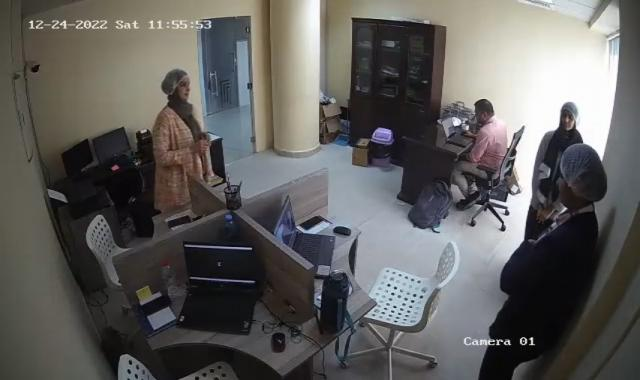hairnet: (553, 142, 610, 210), (158, 69, 193, 106), (558, 102, 580, 133)
no_hairnet: (471, 100, 494, 125)
